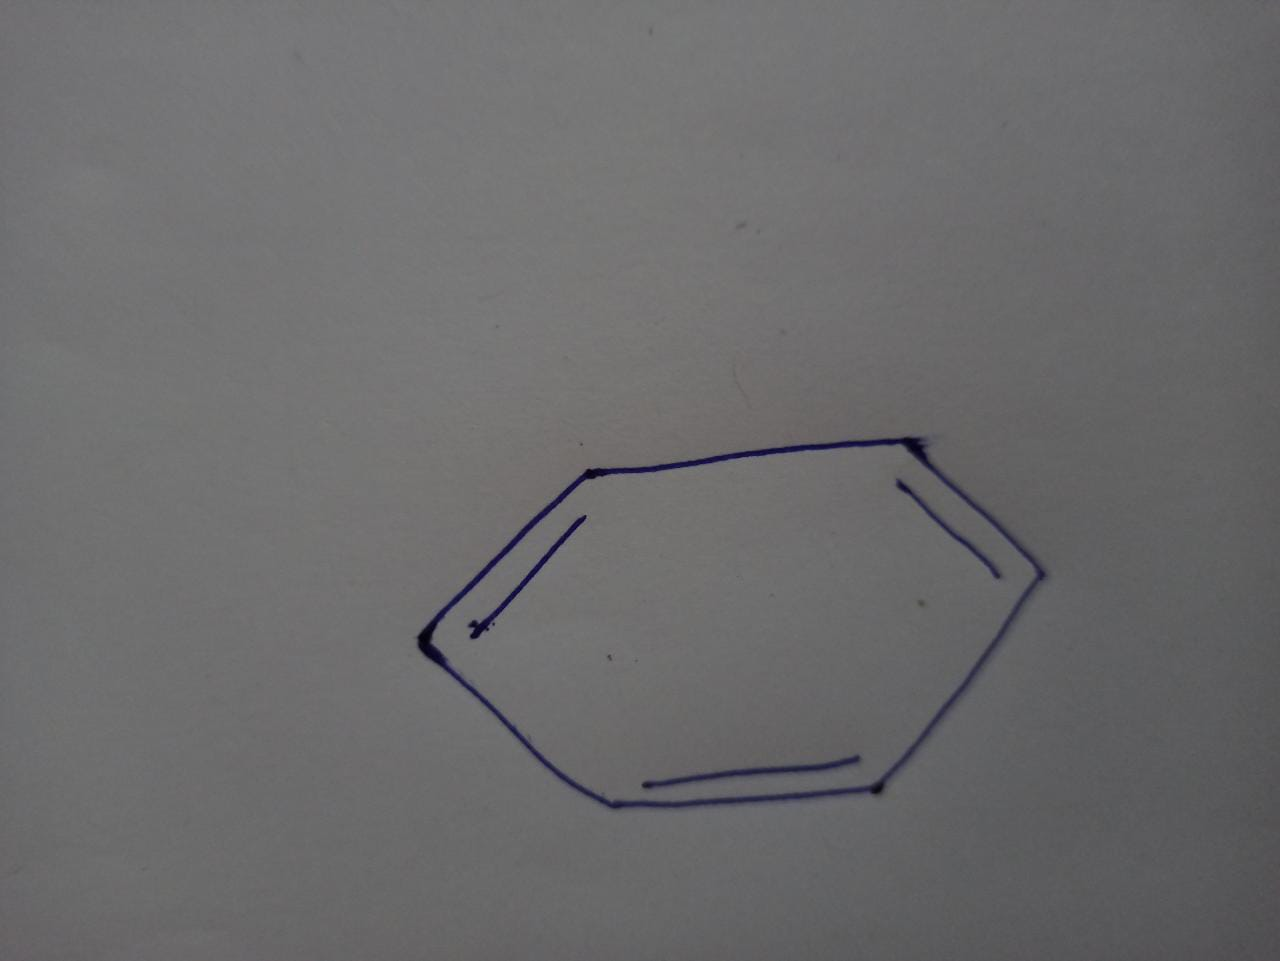shape_mask: (368, 394, 1091, 852)
